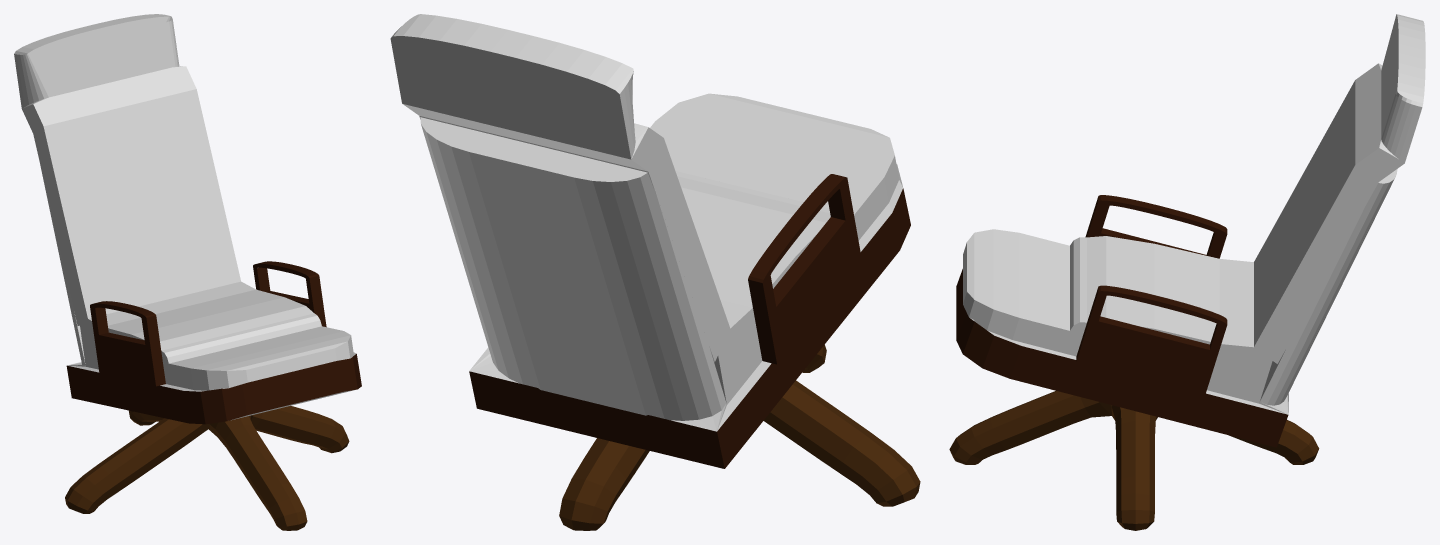
Rendered from silla oficina (1).fbx.
3 renders of one model, left to right at view 1: azimuth 30°, elevation 25°; view 2: azimuth 150°, elevation 25°; view 3: azimuth 270°, elevation 25°, orthographic. The views are drawn at different scales.
Visible parts, largest first — view 1: Cube.001, Cube; view 2: Cube.001, Cube; view 3: Cube.001, Cube.
Boxes of the visible parts, x1,y1,x2,y2 form: Cube.001: [14, 14, 361, 424]; Cube: [65, 406, 349, 530]; Cube.001: [390, 14, 910, 468]; Cube: [559, 344, 920, 530]; Cube.001: [956, 14, 1425, 447]; Cube: [949, 391, 1319, 530].
Size of the model in its own units: 365 by 458 by 473.
